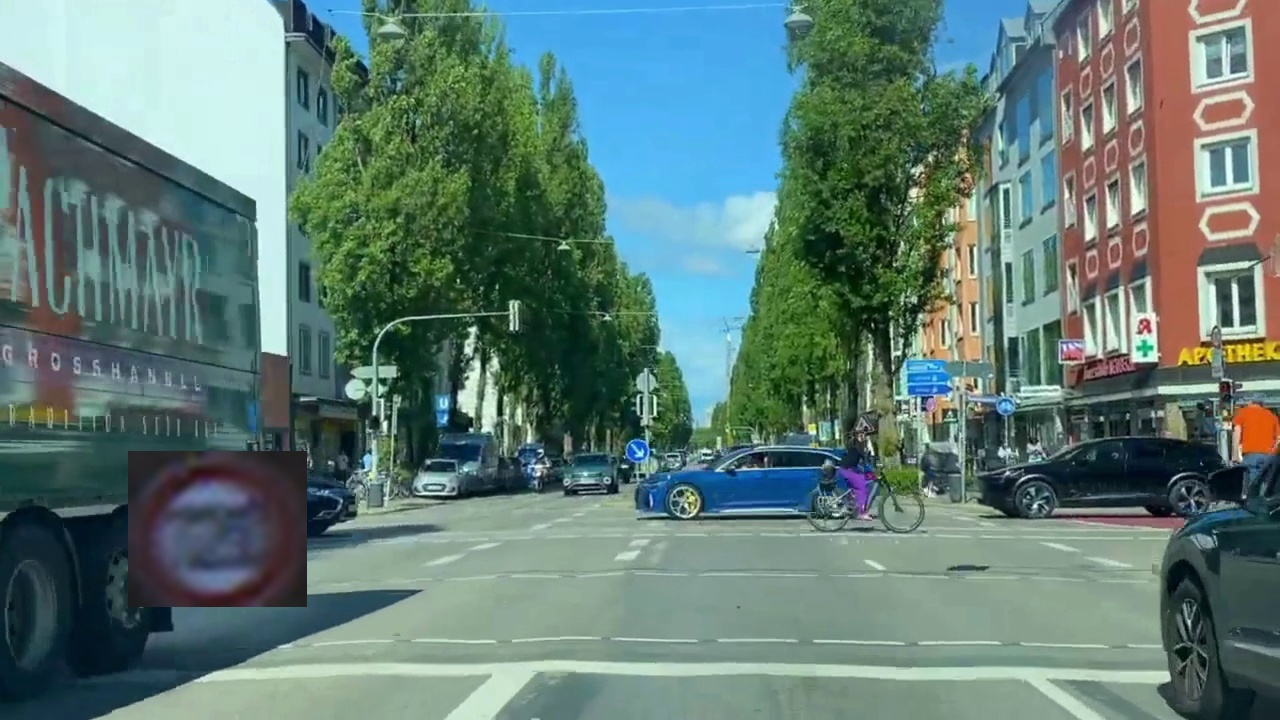Speed 120: (128, 451, 307, 607)
